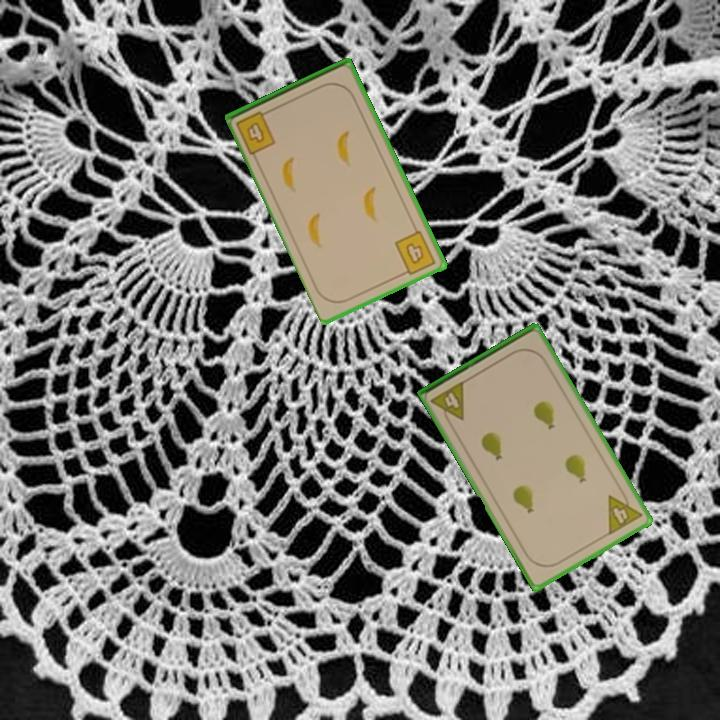4b: (391, 227, 439, 279), (232, 106, 279, 157)
4p: (604, 485, 645, 538), (427, 377, 468, 429)
